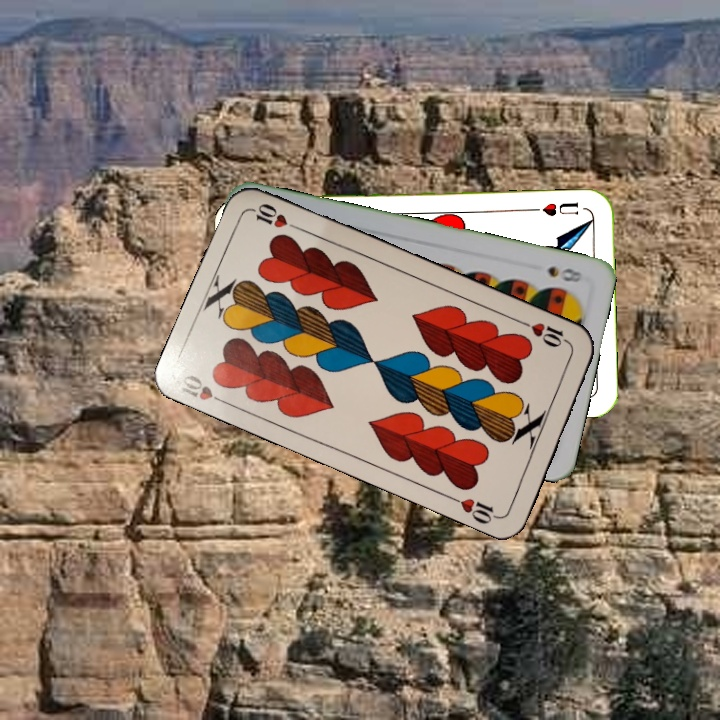H10: (174, 370, 232, 408), (517, 317, 574, 350)
HU: (538, 198, 582, 219)
S8: (543, 262, 585, 285)
